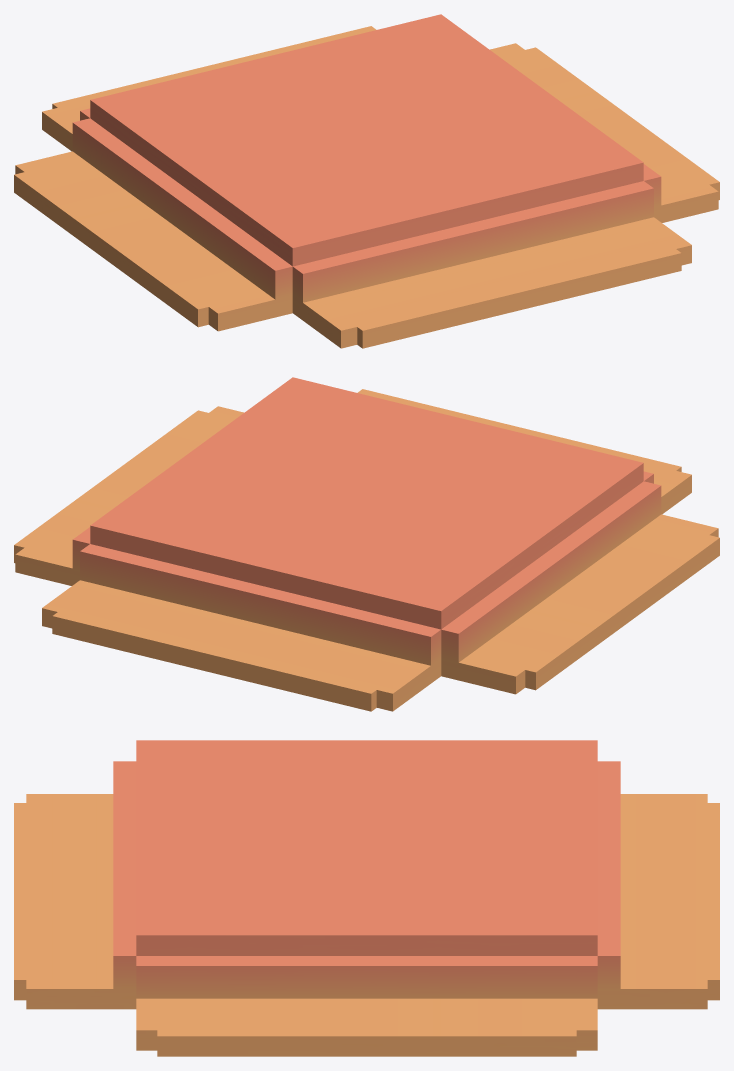
Rendered from Cardboard_Broken.fbx.
The picture shows the model from 3 angles, top to bottom: view 1: azimuth 30°, elevation 25°; view 2: azimuth 150°, elevation 25°; view 3: azimuth 270°, elevation 25°; orthographic projection. The views are drawn at different scales.
Parts seen in each view (by area): view 1: Cube.002; view 2: Cube.002; view 3: Cube.002.
Part boxes in pixels (x1,y1,x2,y2): Cube.002: [14, 14, 719, 348]; Cube.002: [14, 377, 719, 711]; Cube.002: [14, 740, 719, 1056].
Bounding box in the file's own units: 149 × 17.71 × 153.
